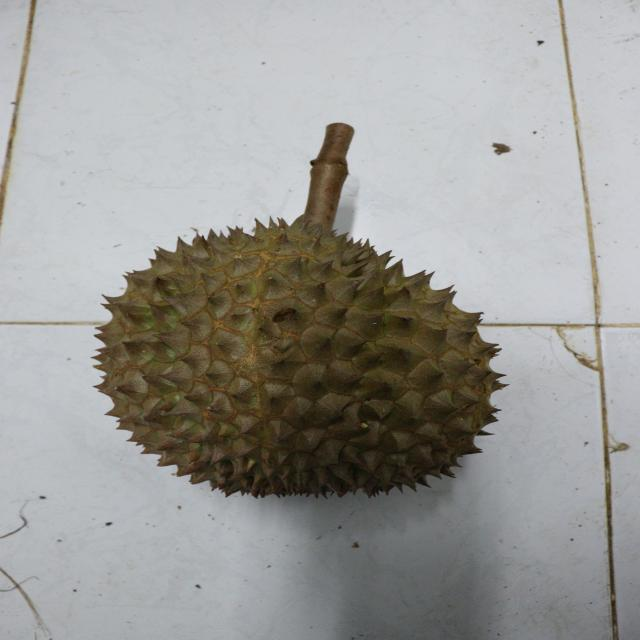mature: (88, 216, 515, 498)
